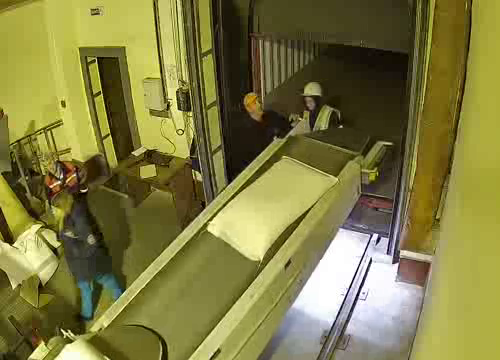bag: (206, 154, 341, 261), (50, 328, 116, 360)
